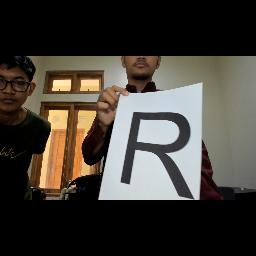r: (118, 106, 206, 200)
